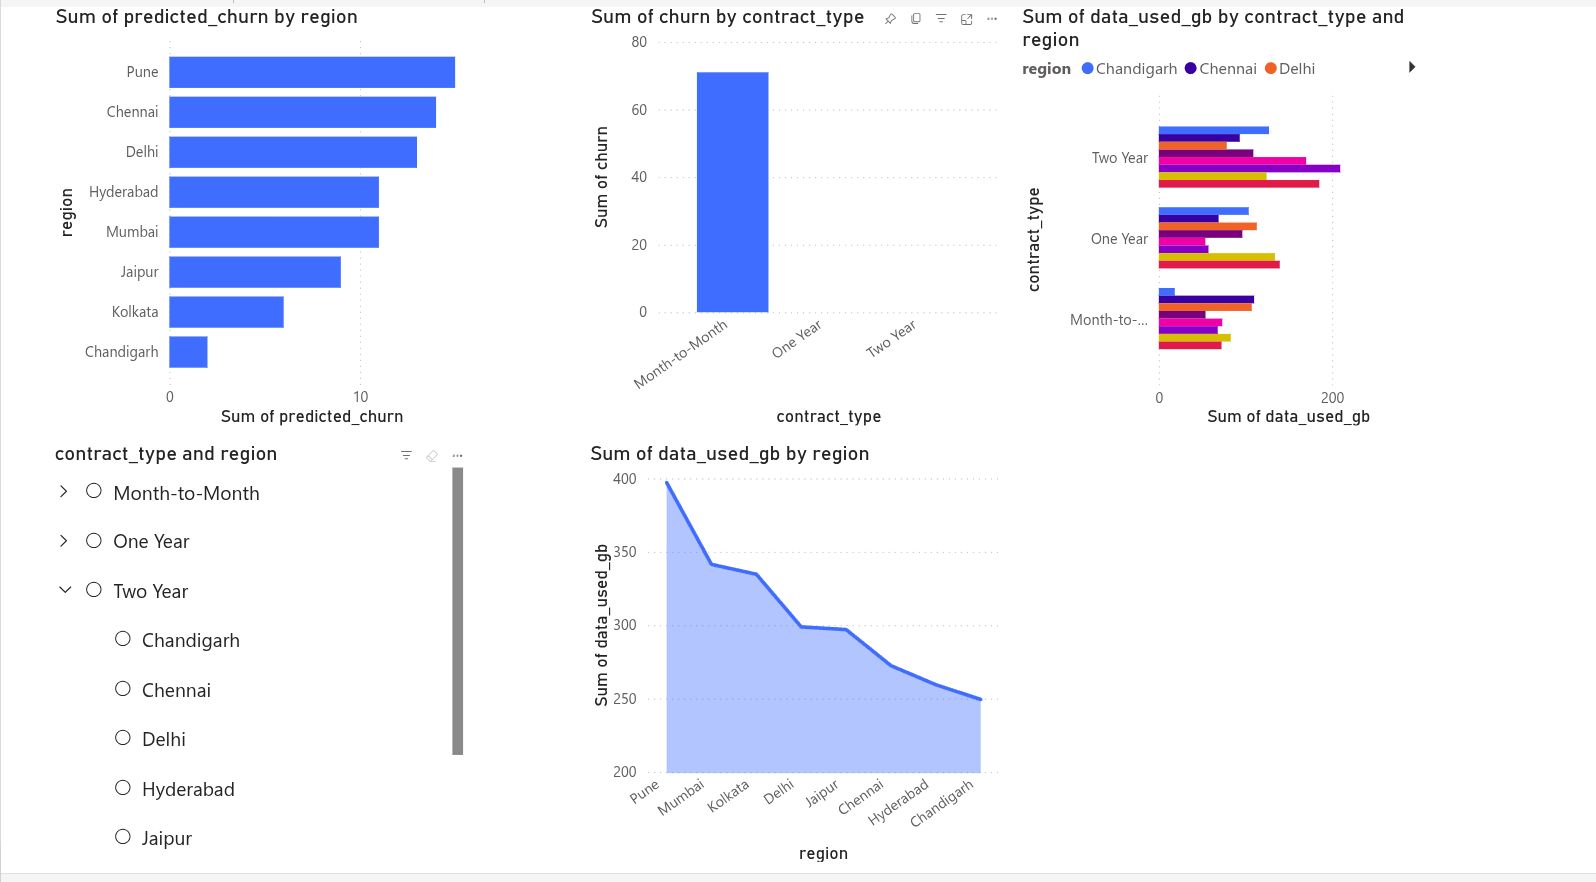

This screenshot's page, from the dashboard's own definition file:
{"tool":"powerbi","page":{"name":"Page 1","canvas":[1280,720],"ordinal":0},"visuals":[{"type":"clusteredBarChart","fields":{"Y":["Sum(churn_predictions 1.predicted_churn)"],"Category":["churn_predictions 1.region"]},"box":[10.5,0,348.5,352.7],"z":0},{"type":"columnChart","fields":{"Category":["churn_predictions 1.contract_type"],"Y":["Sum(churn_predictions 1.churn)"]},"box":[455.3,0,348.5,352.7],"z":1000},{"type":"listSlicer","fields":{"Values":["churn_predictions 1.contract_type","churn_predictions 1.region"]},"box":[10,363,349,353],"z":2000},{"type":"stackedAreaChart","fields":{"Y":["Sum(churn_predictions 1.data_used_gb)"],"Category":["churn_predictions 1.region"]},"box":[455,363,349,353],"z":2001},{"type":"clusteredBarChart","fields":{"Category":["churn_predictions 1.contract_type"],"Y":["Sum(churn_predictions 1.data_used_gb)"],"Series":["churn_predictions 1.region"]},"box":[814,0,349,353],"z":2002}]}

Visuals, with their boxes in screenshot pixels (x1, y1, x2, y2), scaled from the page's 1280x720 canvas onto the 1596x882 screenshot:
clusteredBarChart - Sum(churn_predictions 1.predicted_churn) x churn_predictions 1.region: [13,0,448,432]
columnChart - churn_predictions 1.contract_type x Sum(churn_predictions 1.churn): [568,0,1002,432]
listSlicer - churn_predictions 1.contract_type x churn_predictions 1.region: [12,445,448,877]
stackedAreaChart - Sum(churn_predictions 1.data_used_gb) x churn_predictions 1.region: [567,445,1002,877]
clusteredBarChart - churn_predictions 1.contract_type x Sum(churn_predictions 1.data_used_gb): [1015,0,1450,432]
